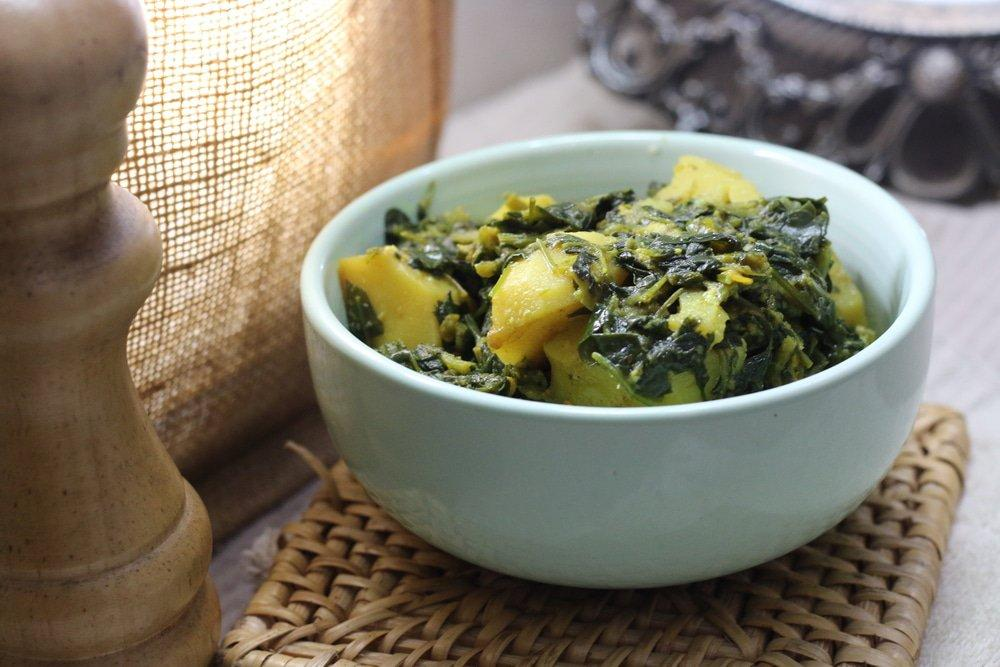Aloo Methi: (286, 131, 972, 578)
